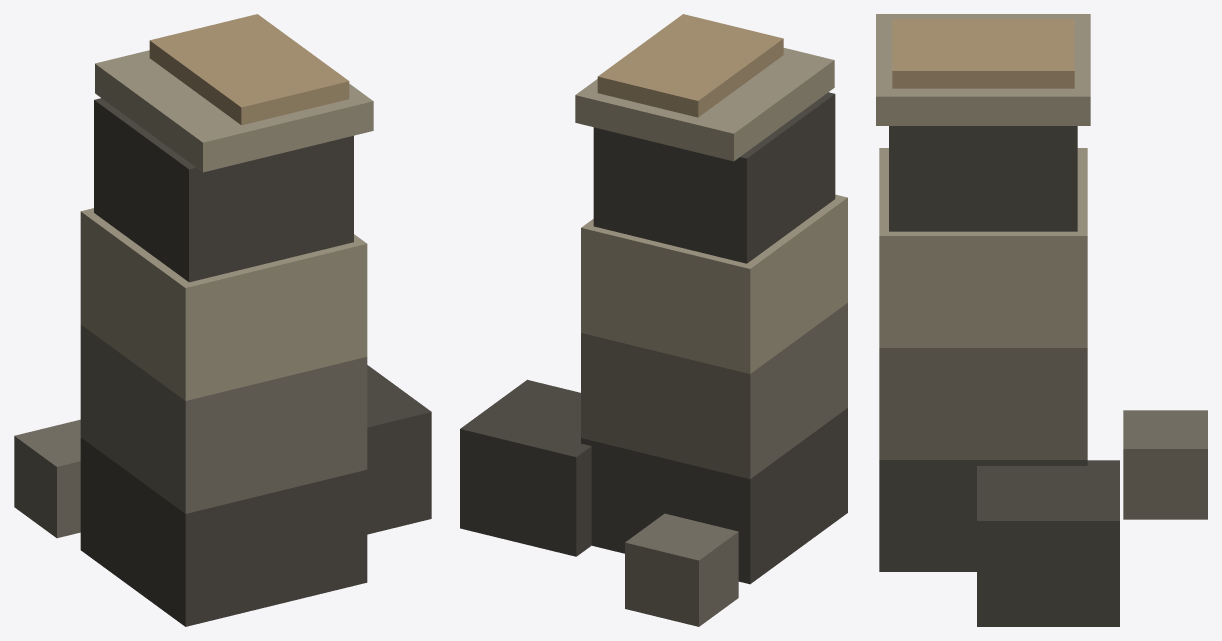
Rendered from TW_STONE_END_RUIN_B_LOD0.glb.
3 renders of one model, left to right at view 1: azimuth 30°, elevation 25°; view 2: azimuth 150°, elevation 25°; view 3: azimuth 270°, elevation 25°, orthographic. The views are drawn at different scales.
Parts seen in each view (by area): view 1: TW_STONE_END_RUIN_B_LOD0; view 2: TW_STONE_END_RUIN_B_LOD0; view 3: TW_STONE_END_RUIN_B_LOD0.
Part boxes in pixels (box(x1,y1,x2,y2)): TW_STONE_END_RUIN_B_LOD0: box(14, 14, 431, 626); TW_STONE_END_RUIN_B_LOD0: box(460, 14, 847, 626); TW_STONE_END_RUIN_B_LOD0: box(876, 14, 1207, 626).
Size of the model in its own units: 0.53 by 0.84 by 0.51.
1 material, 1 textured.
